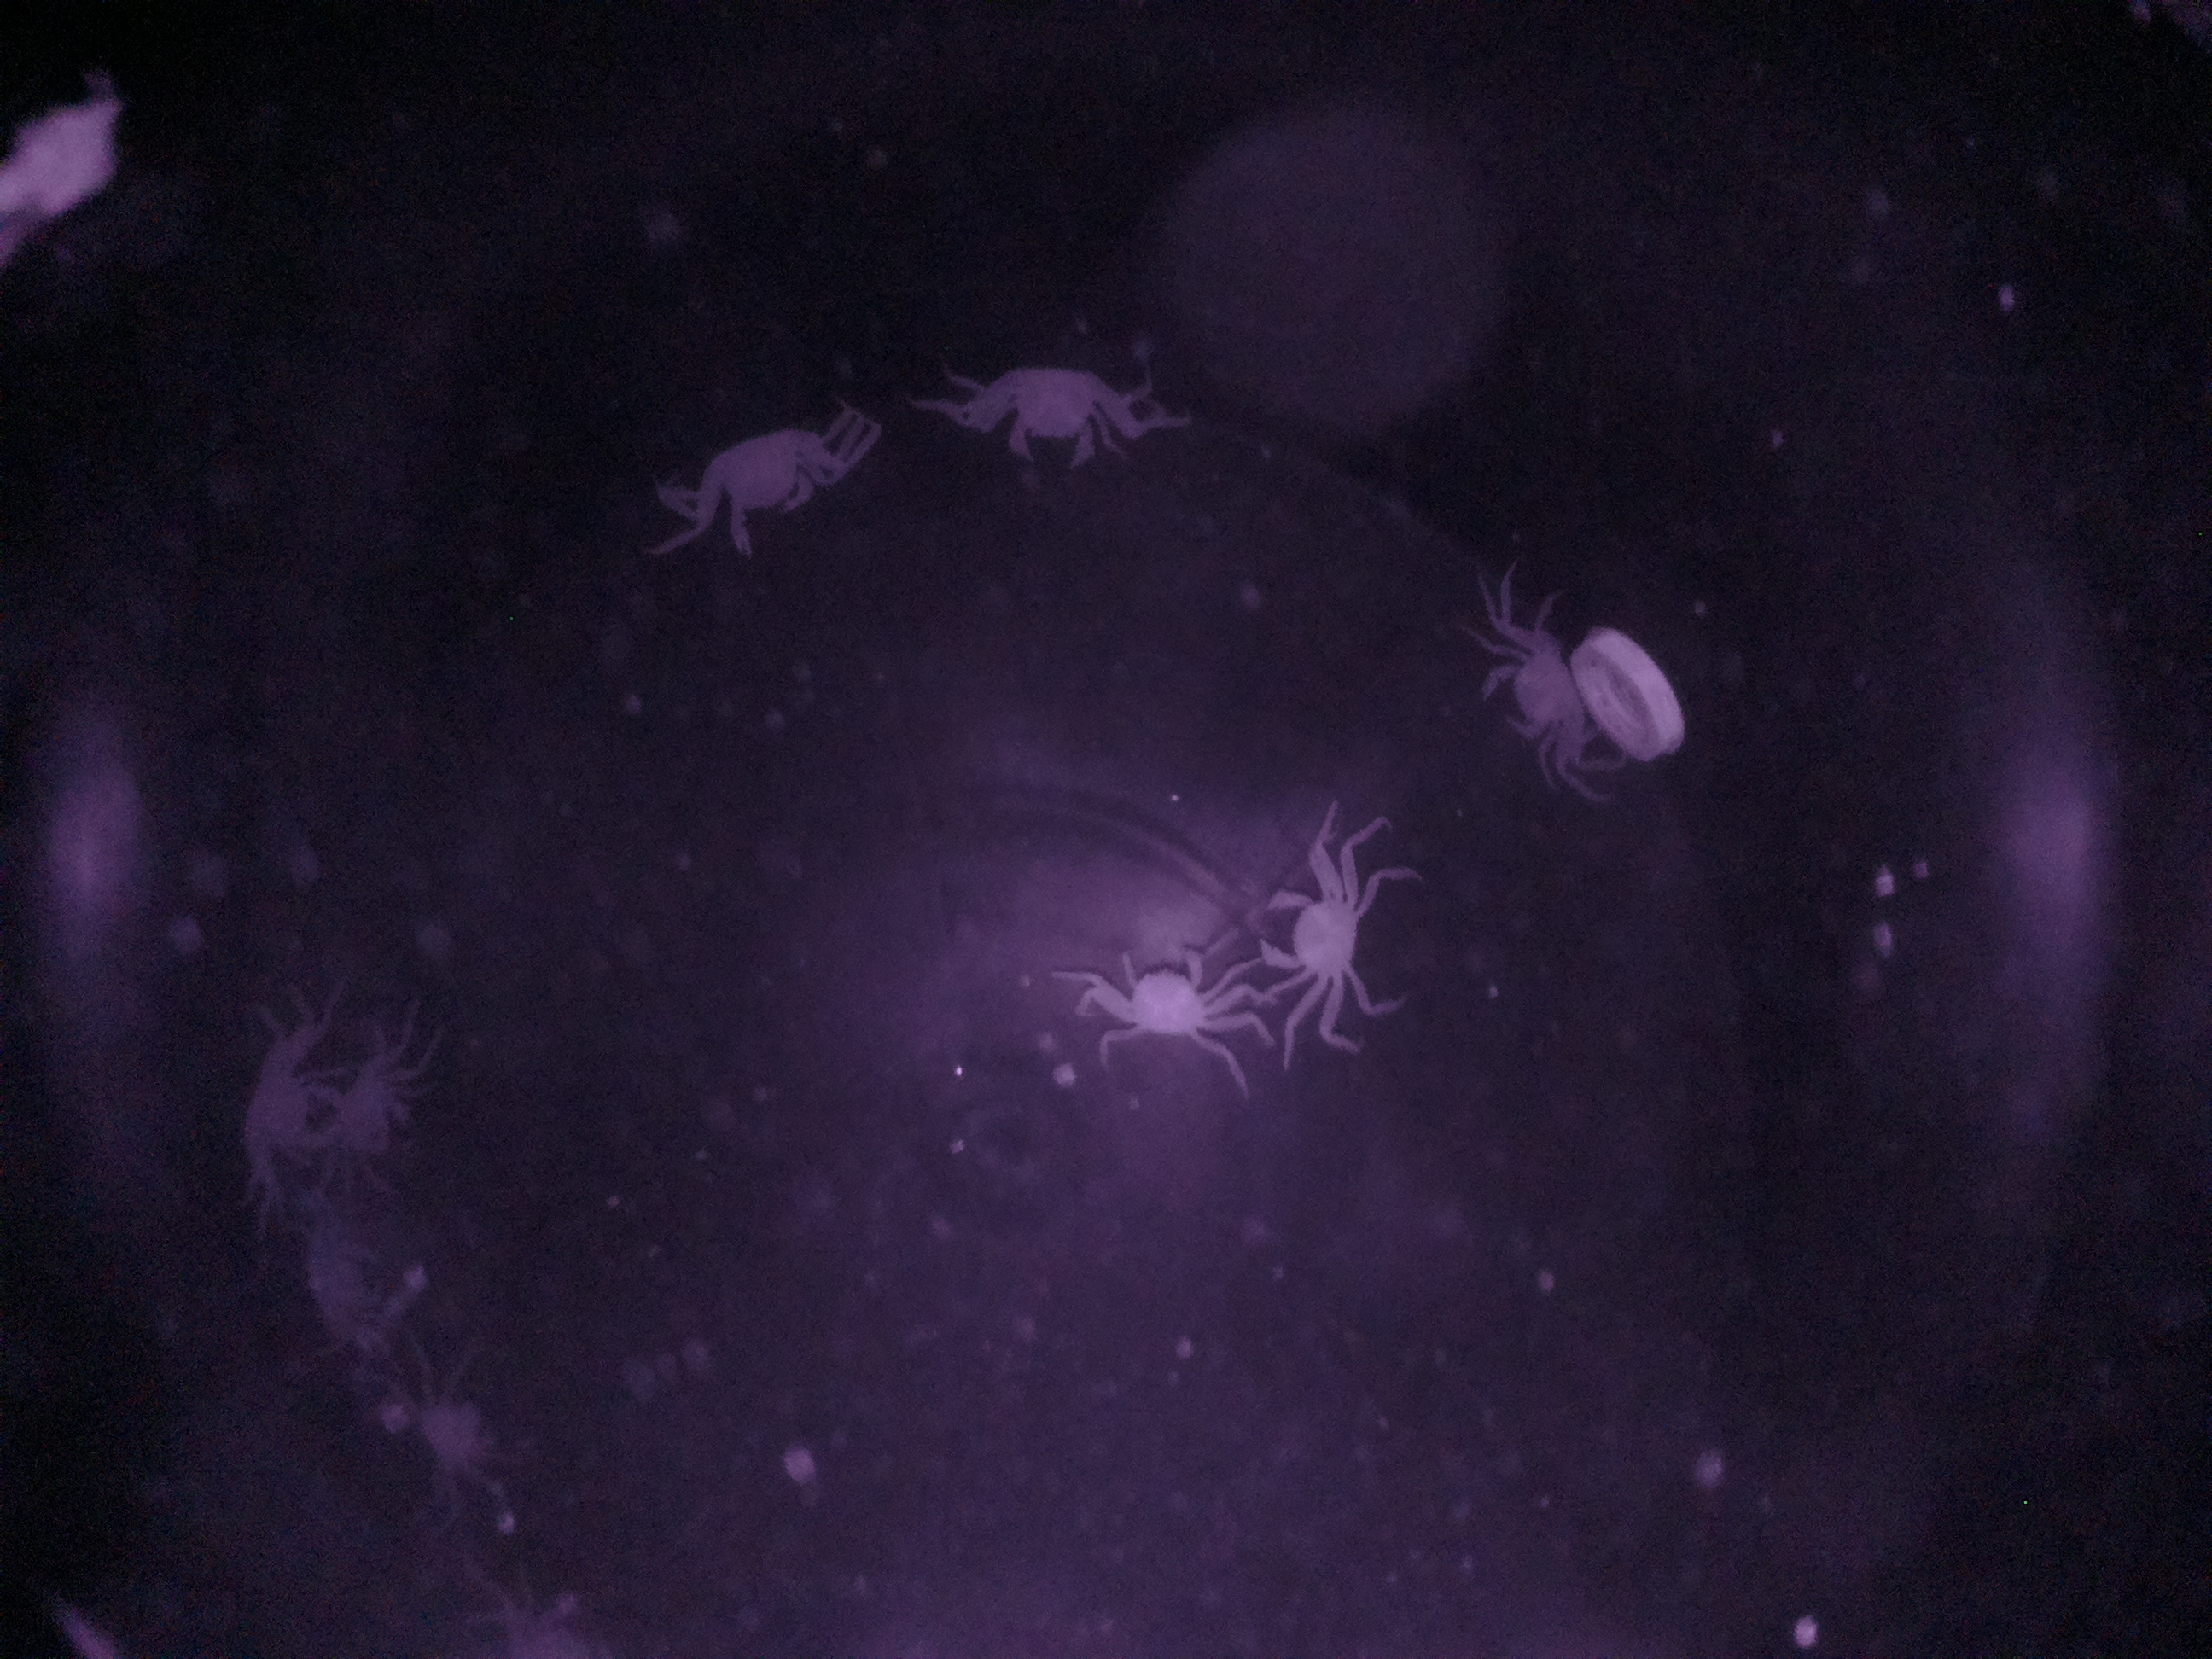Crab: (674, 408, 850, 572), (1245, 854, 1416, 1014), (1080, 913, 1244, 1079), (960, 331, 1132, 481), (1461, 626, 1613, 775)
